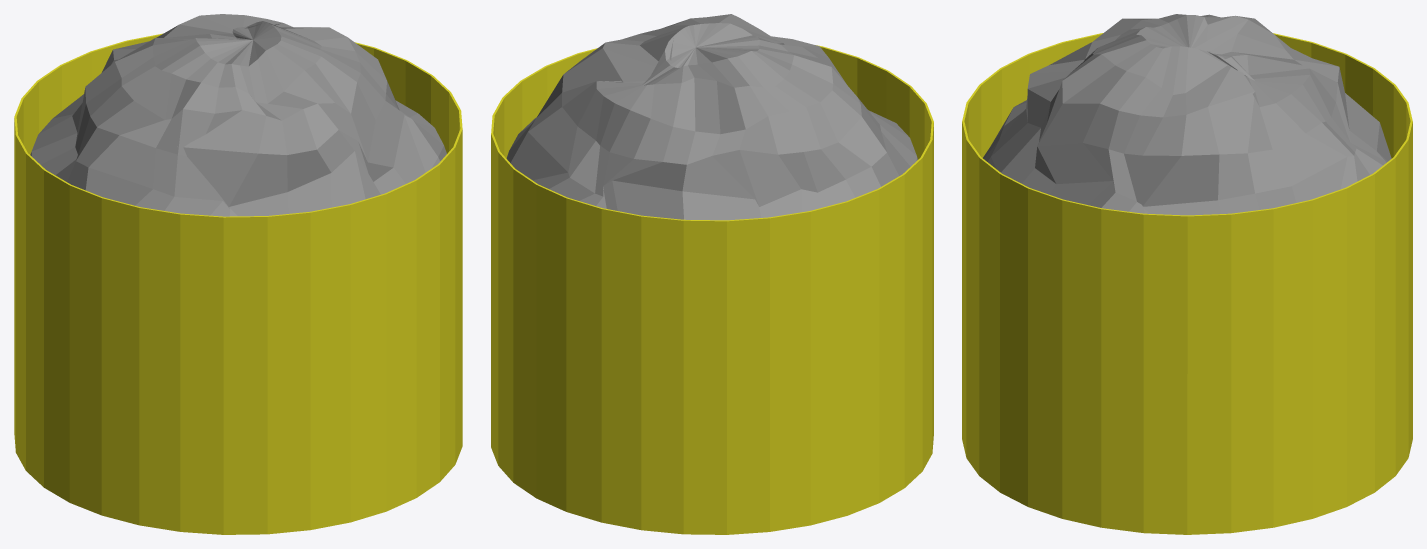
Rendered from Tepung  Ketan.fbx.
3 renders of one model, left to right at view 1: azimuth 30°, elevation 25°; view 2: azimuth 150°, elevation 25°; view 3: azimuth 270°, elevation 25°, orthographic.
Visible parts, largest first — view 1: Cylinder, Sphere; view 2: Cylinder, Sphere; view 3: Cylinder, Sphere.
Boxes of the visible parts, bbox=[...] form: Cylinder: bbox=[14, 33, 462, 534]; Sphere: bbox=[30, 14, 446, 216]; Cylinder: bbox=[491, 45, 933, 534]; Sphere: bbox=[506, 14, 917, 220]; Cylinder: bbox=[962, 33, 1412, 534]; Sphere: bbox=[983, 14, 1391, 215].
Bounding box in the file's own units: 200 × 200 × 200.
